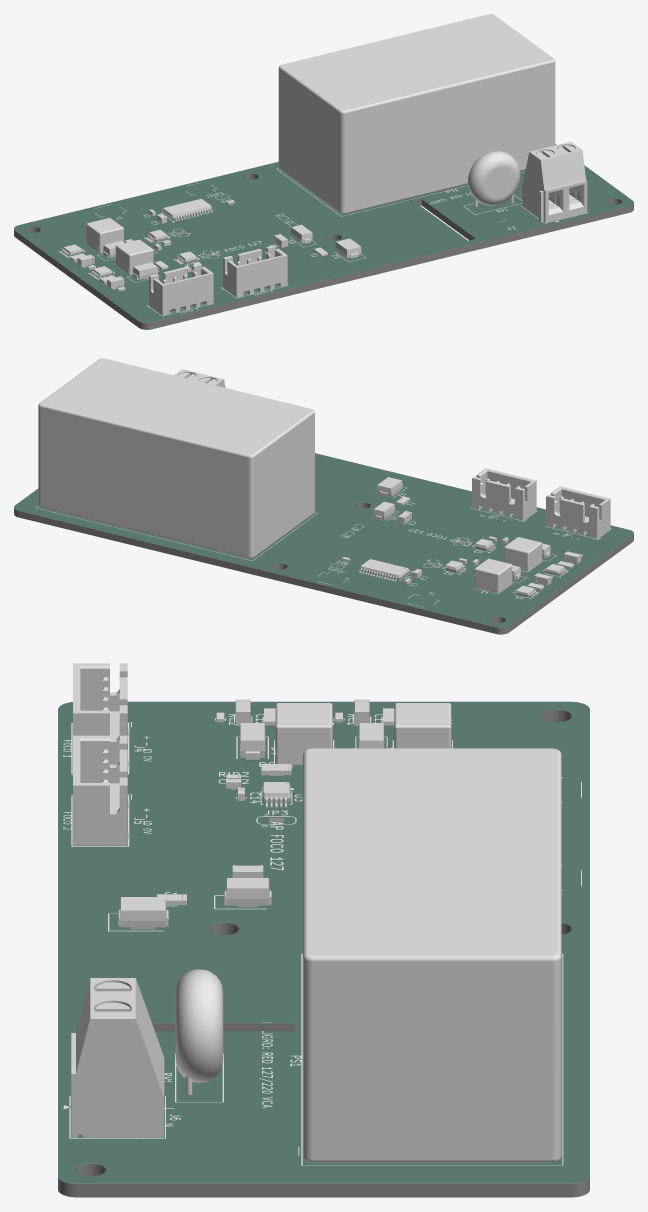
File: AP_FOCO127.glb
3 views of the same model, one above another, from view 1: azimuth 30°, elevation 25°; view 2: azimuth 150°, elevation 25°; view 3: azimuth 270°, elevation 25° (orthographic). The views are drawn at different scales.
Parts seen in each view (by area): view 1: PS1, =>[0:1:1:22], =>[0:1:1:20], J6, J4, J5, RV1, =>[0:1:1:18], L2, L1, U1, =>[0:1:1:21]; view 2: PS1, =>[0:1:1:22], =>[0:1:1:20], J5, J4, =>[0:1:1:18], L1, L2, U1, =>[0:1:1:21], J6, D2; view 3: =>[0:1:1:22], =>[0:1:1:20], PS1, J6, J5, RV1, =>[0:1:1:18], J4, L2, L1, D2, D1 (+1 smaller).
Part boxes in pixels (left/top/right/bottom): PS1: left=278, top=14, right=555, bottom=214; =>[0:1:1:22]: left=14, top=163, right=633, bottom=329; =>[0:1:1:20]: left=14, top=144, right=633, bottom=322; J6: left=522, top=141, right=587, bottom=222; J4: left=149, top=263, right=213, bottom=315; J5: left=223, top=245, right=287, bottom=297; RV1: left=467, top=151, right=520, bottom=206; =>[0:1:1:18]: left=58, top=168, right=587, bottom=316; L2: left=115, top=239, right=153, bottom=274; L1: left=86, top=217, right=123, bottom=252; U1: left=161, top=198, right=212, bottom=221; =>[0:1:1:21]: left=15, top=206, right=633, bottom=329; PS1: left=38, top=358, right=314, bottom=558; =>[0:1:1:22]: left=14, top=454, right=633, bottom=634; =>[0:1:1:20]: left=14, top=453, right=633, bottom=627; J5: left=472, top=468, right=536, bottom=520; J4: left=546, top=486, right=610, bottom=538; =>[0:1:1:18]: left=36, top=486, right=611, bottom=607; L1: left=474, top=558, right=512, bottom=593; L2: left=504, top=537, right=542, bottom=571; U1: left=359, top=559, right=410, bottom=581; =>[0:1:1:21]: left=14, top=515, right=632, bottom=634; J6: left=174, top=369, right=225, bottom=387; D2: left=376, top=477, right=402, bottom=497; =>[0:1:1:22]: left=58, top=702, right=589, bottom=1196; =>[0:1:1:20]: left=58, top=701, right=589, bottom=1183; PS1: left=303, top=748, right=561, bottom=1162; J6: left=71, top=978, right=164, bottom=1137; J5: left=73, top=735, right=127, bottom=845; RV1: left=175, top=969, right=223, bottom=1094; =>[0:1:1:18]: left=63, top=714, right=581, bottom=1165; J4: left=73, top=663, right=127, bottom=764; L2: left=275, top=703, right=332, bottom=764; L1: left=394, top=703, right=451, bottom=748; D2: left=118, top=897, right=168, bottom=929; D1: left=224, top=878, right=271, bottom=907.
Size of the model in its own units: 0.12 by 0.0276 by 0.056.
